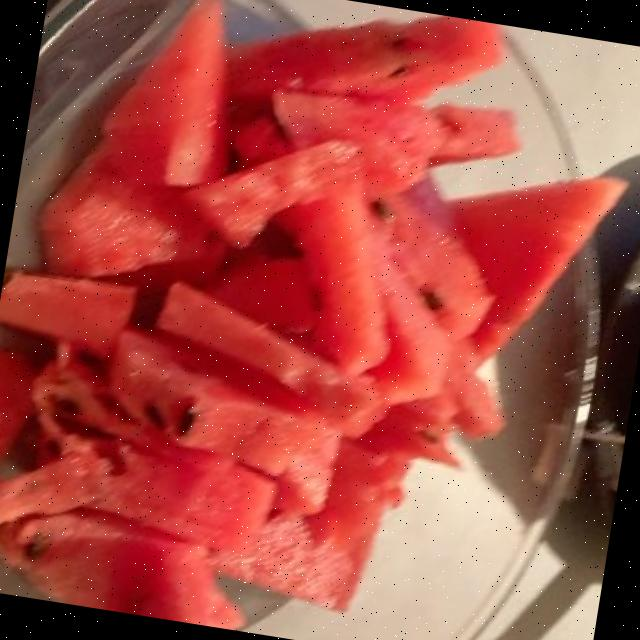watermelon-fresh: (0, 13, 599, 613)
